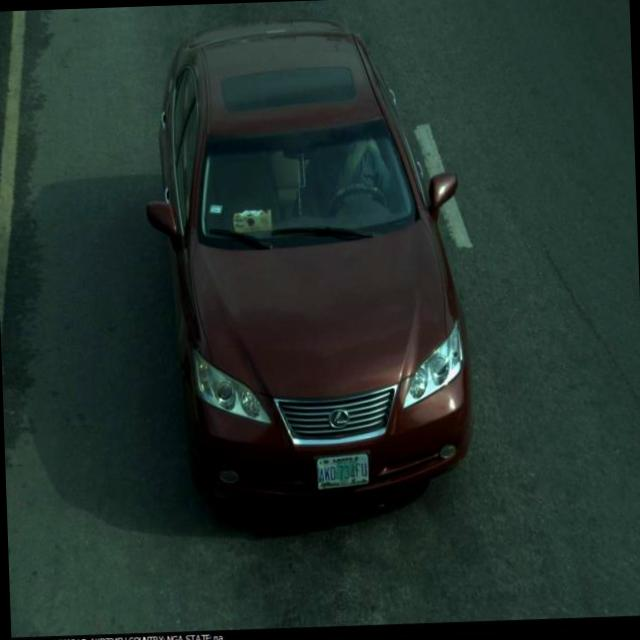person_with_seatbelt: (307, 116, 398, 224)
